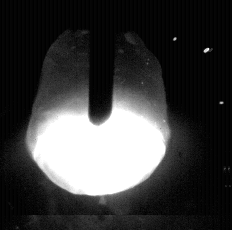arame: (90, 0, 114, 125)
poca: (24, 0, 170, 230)
